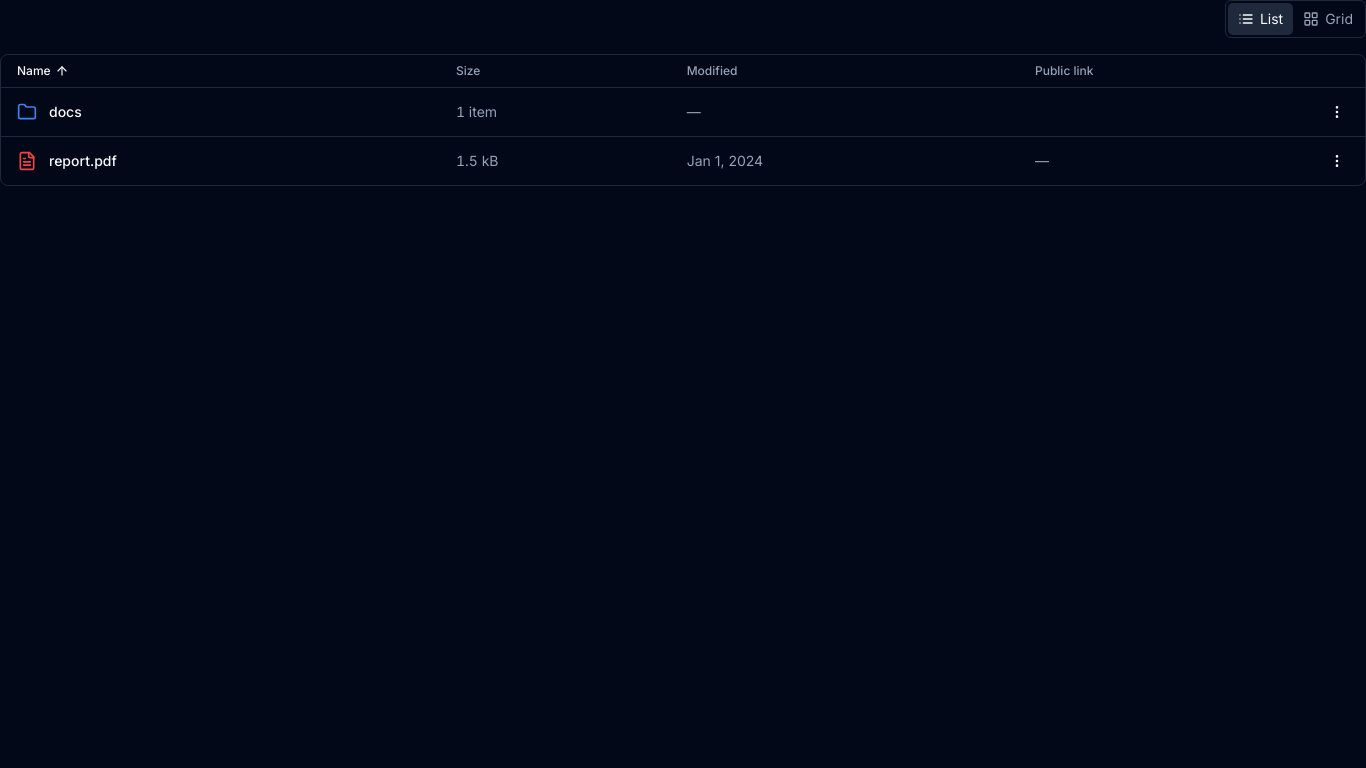
Test: FileBrowser › moves a file to trash after confirmation and reloads the list
Click the button named "Actions for report.pdf": (1337, 161) x1=1317 y1=141 x2=1357 y2=181
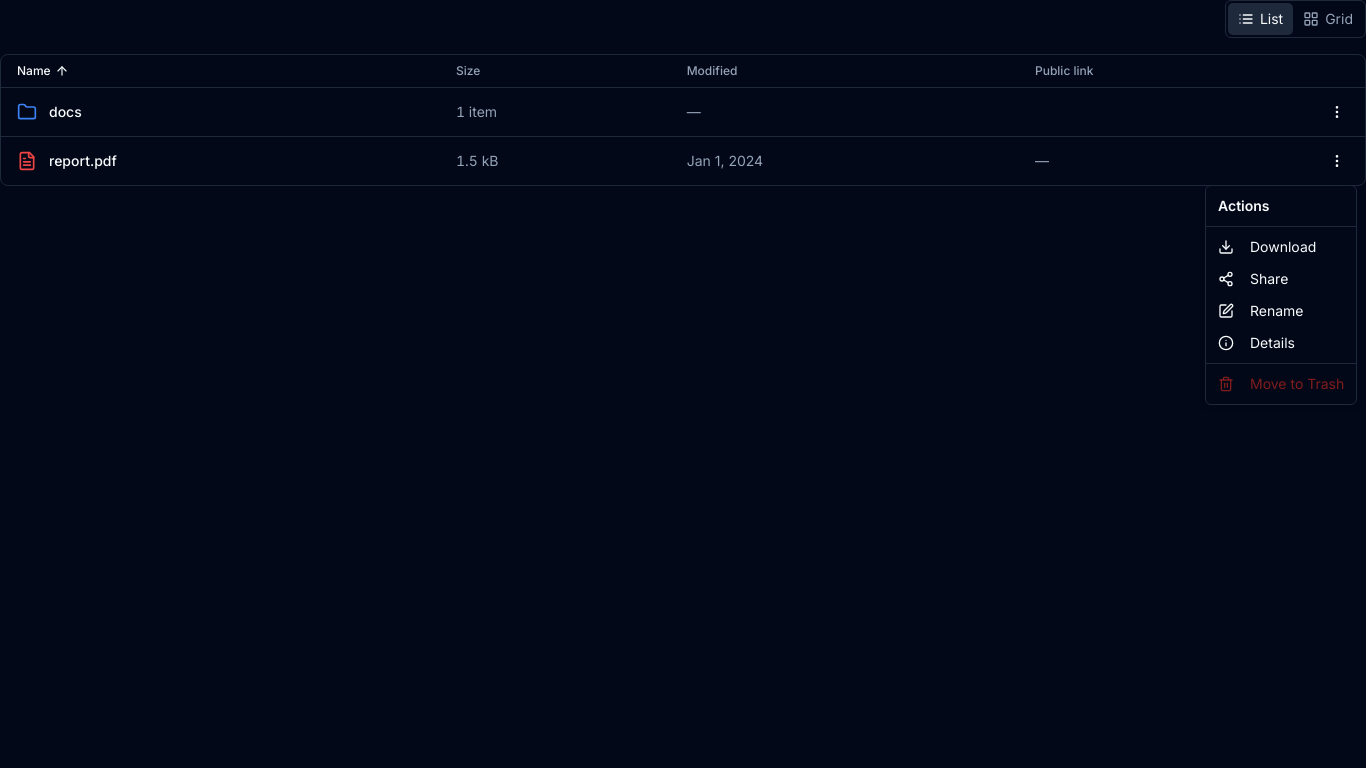
Click the menu item "Move to Trash": (1281, 384) x1=1218 y1=375 x2=1344 y2=392
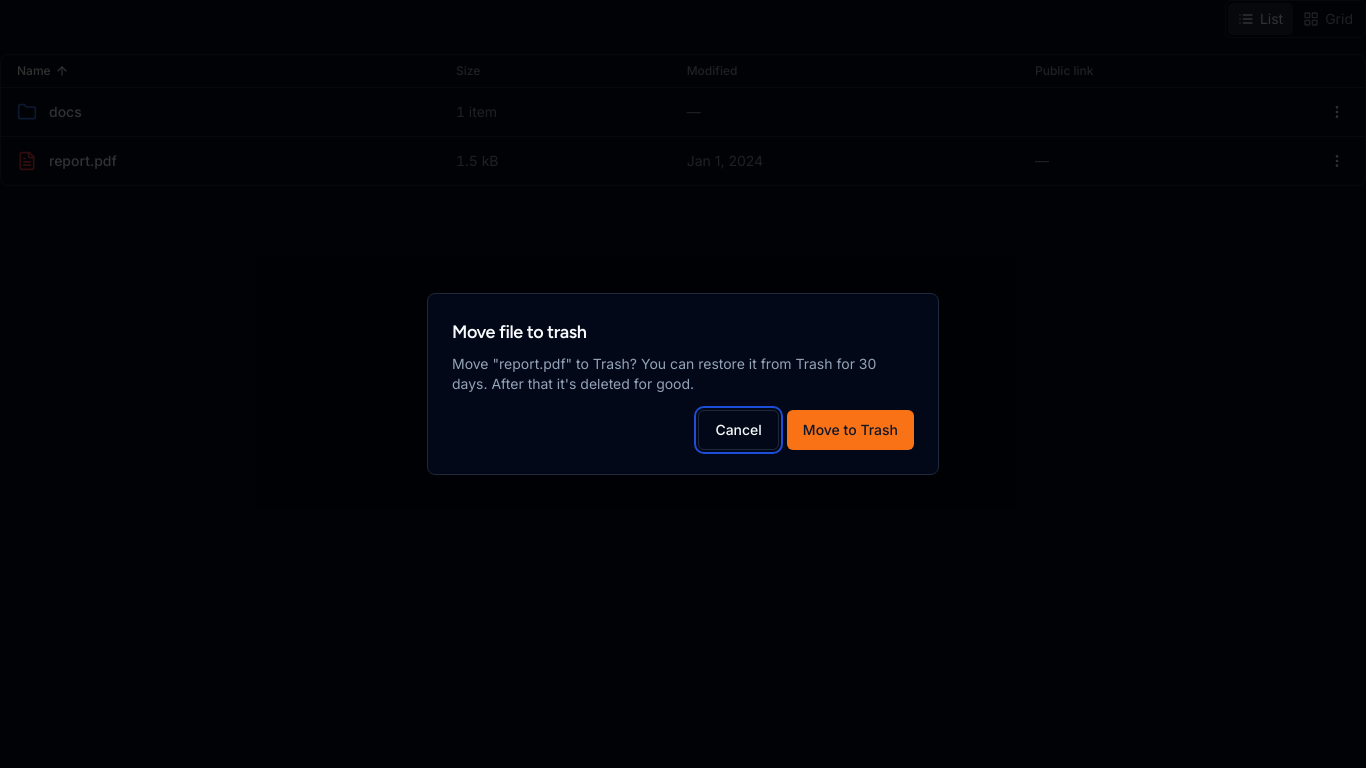
Expected: the text "Move \"report.pdf\" to Trash? You can restore it from Trash for 30 days. After that it's deleted for good." is shown, x1=452 y1=355 x2=876 y2=392
Click the button "Move to Trash": (850, 430) x1=787 y1=410 x2=914 y2=450
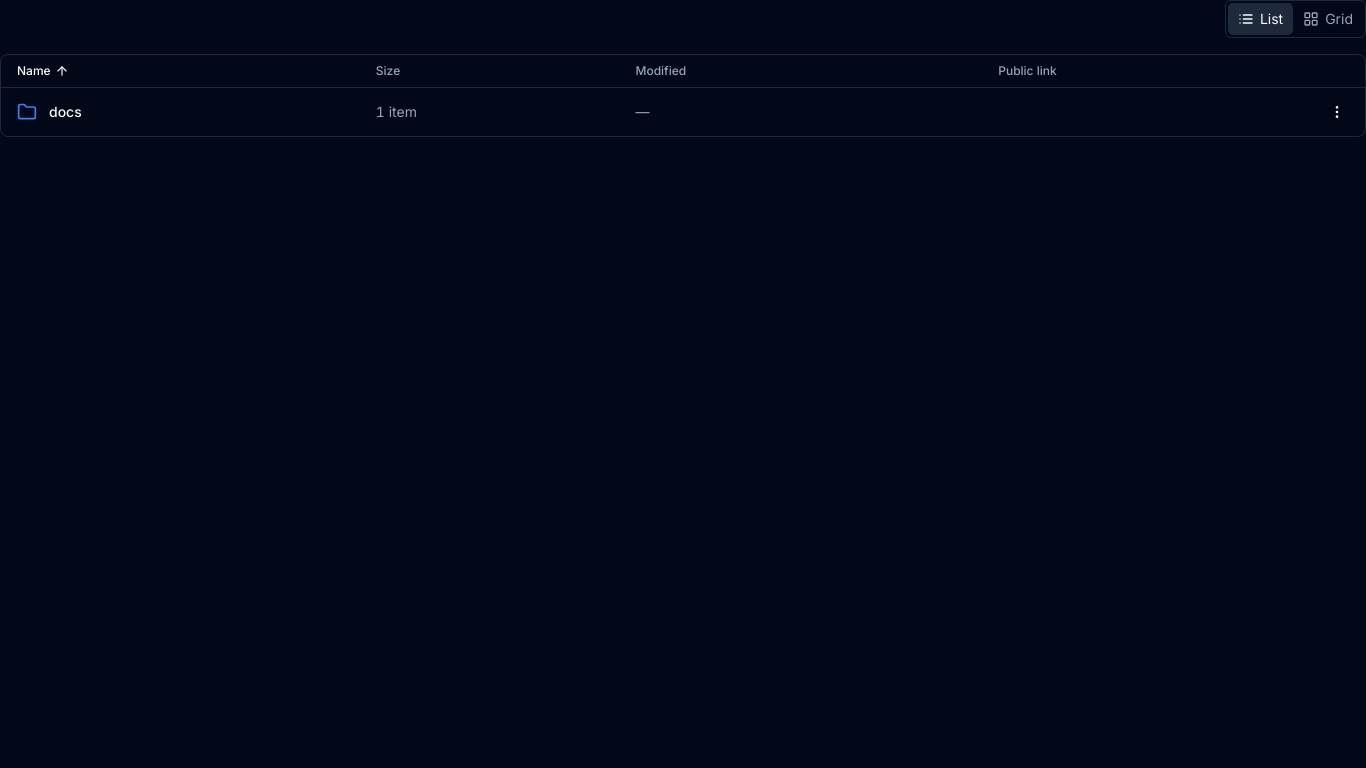
Expected: the text "report.pdf" is gone
